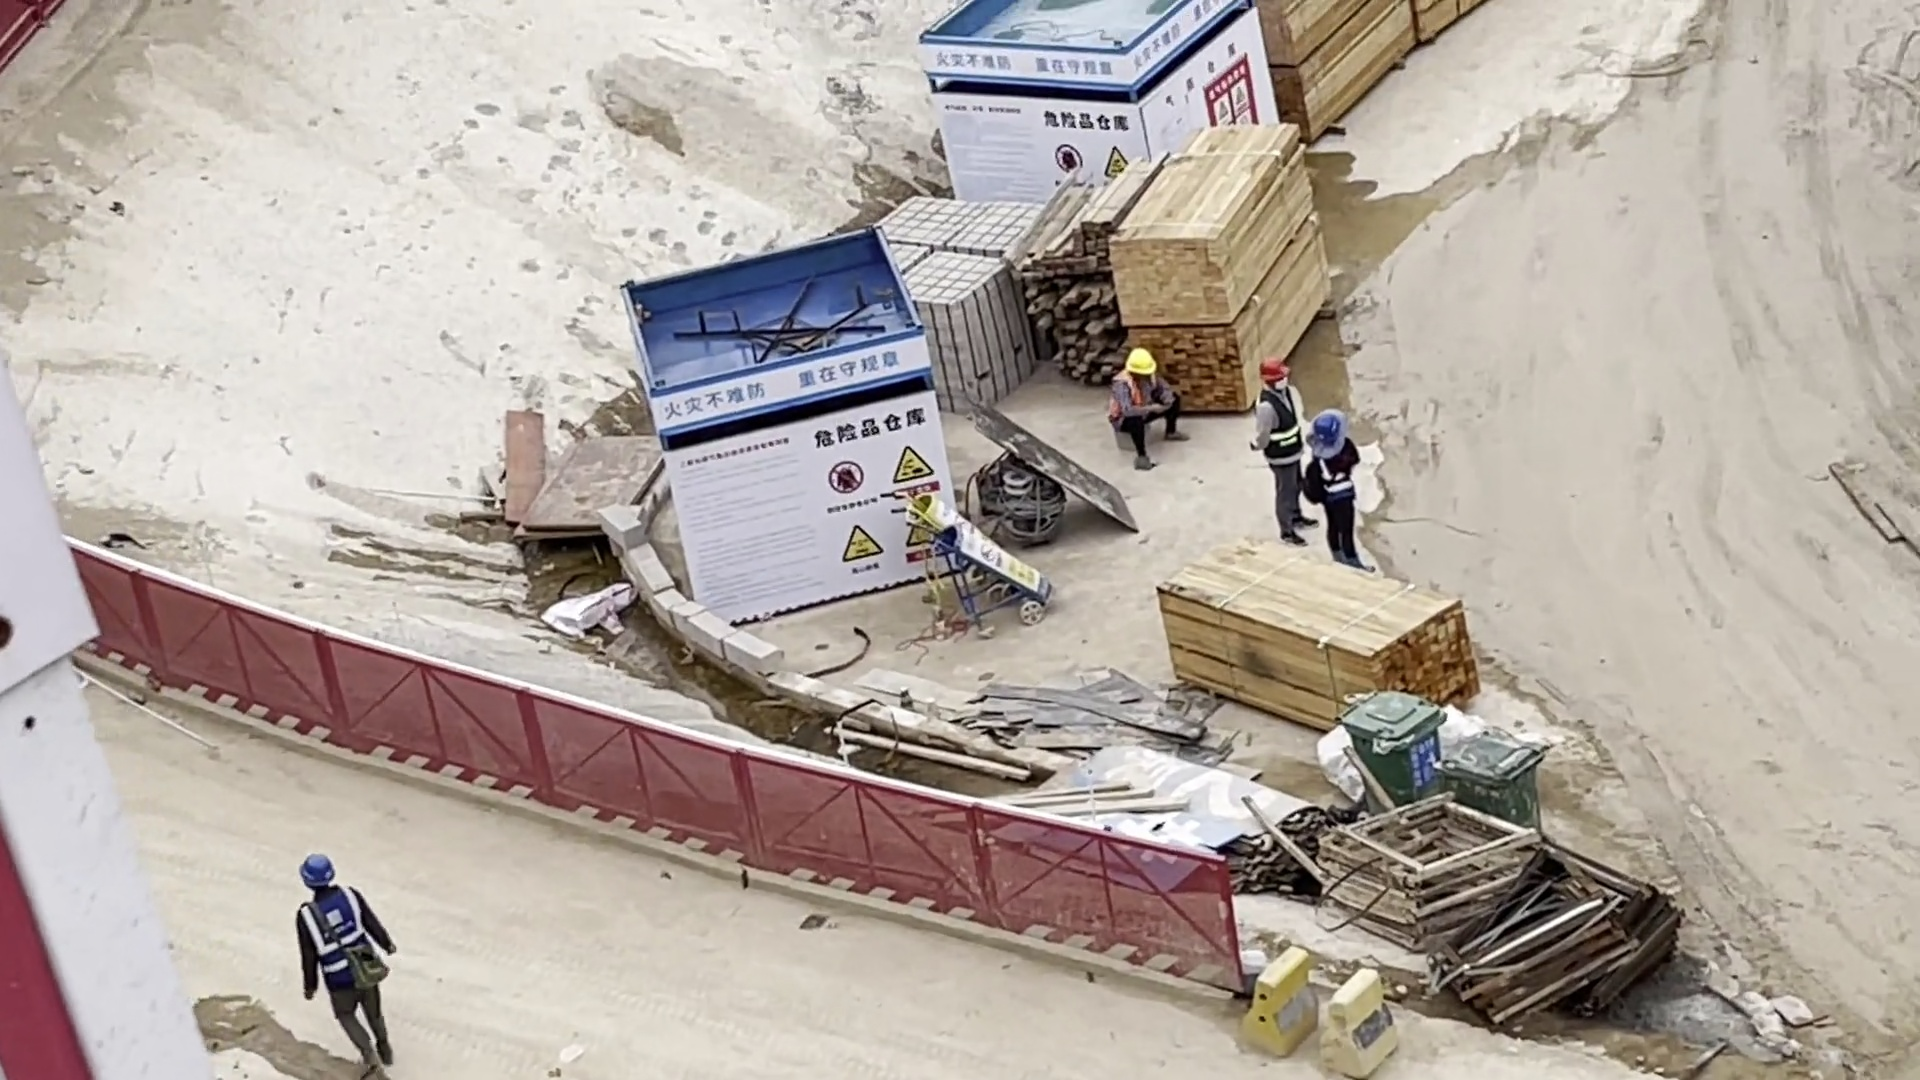fence: (50, 544, 1236, 998)
helmet: (1312, 410, 1345, 460), (1130, 336, 1166, 380), (301, 851, 334, 890), (1258, 355, 1295, 381)
person: (296, 858, 398, 1078), (1299, 400, 1372, 581), (1244, 354, 1307, 518), (1095, 342, 1174, 463)
slogan: (657, 338, 920, 426), (929, 35, 1137, 90)
vest: (303, 889, 381, 974), (1251, 385, 1295, 457), (1105, 370, 1160, 419), (1312, 444, 1352, 498)
wood: (1026, 126, 1330, 403), (1154, 531, 1472, 709)
